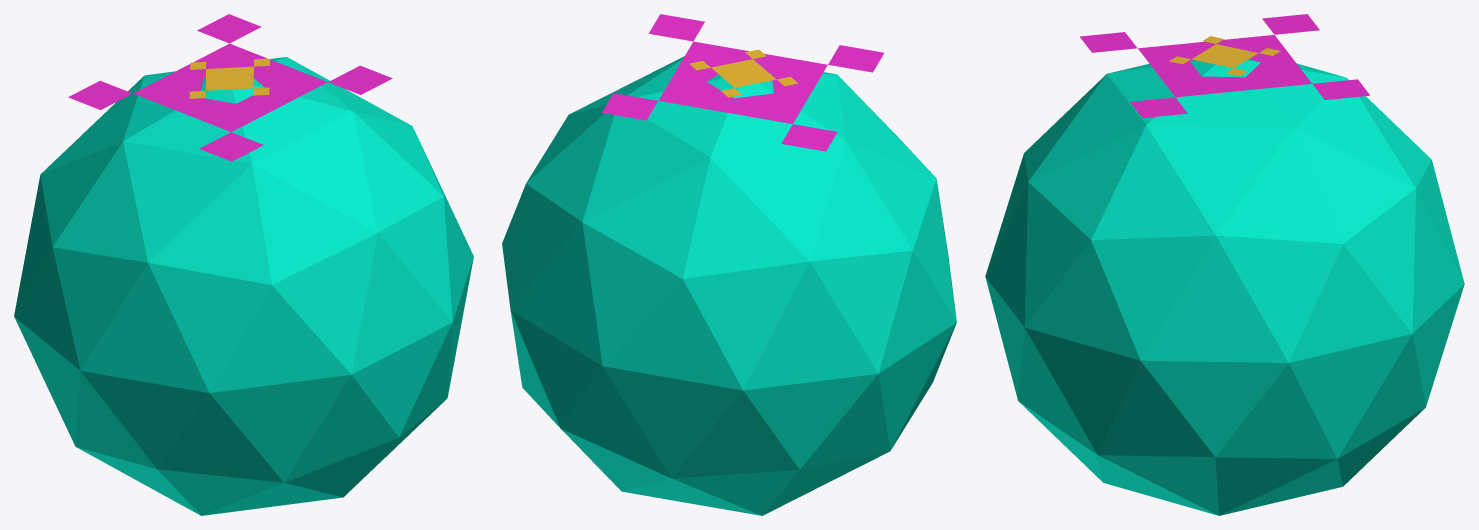
Rendered from naga.glb.
The picture shows the model from 3 angles, left to right: view 1: azimuth 30°, elevation 25°; view 2: azimuth 150°, elevation 25°; view 3: azimuth 270°, elevation 25°; orthographic projection. The views are drawn at different scales.
Parts seen in each view (by area): view 1: Grid.052; view 2: Grid.052; view 3: Grid.052.
Boxes of the visible parts, x1,y1,x2,y2 form: Grid.052: [14, 14, 473, 515]; Grid.052: [502, 14, 956, 515]; Grid.052: [985, 14, 1464, 515].
Size of the model in its own units: 1.02 by 1.07 by 1.06.
